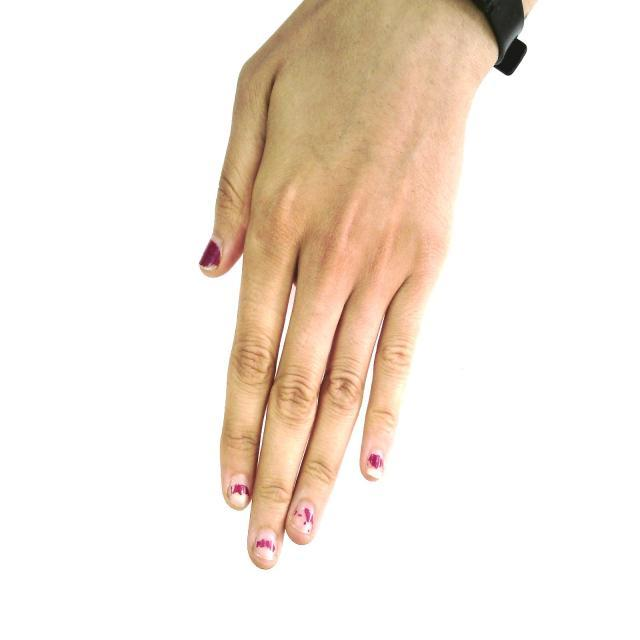Fingernail: (255, 529, 277, 561), (294, 505, 313, 542), (228, 476, 248, 509), (200, 240, 220, 269), (367, 453, 382, 479)
